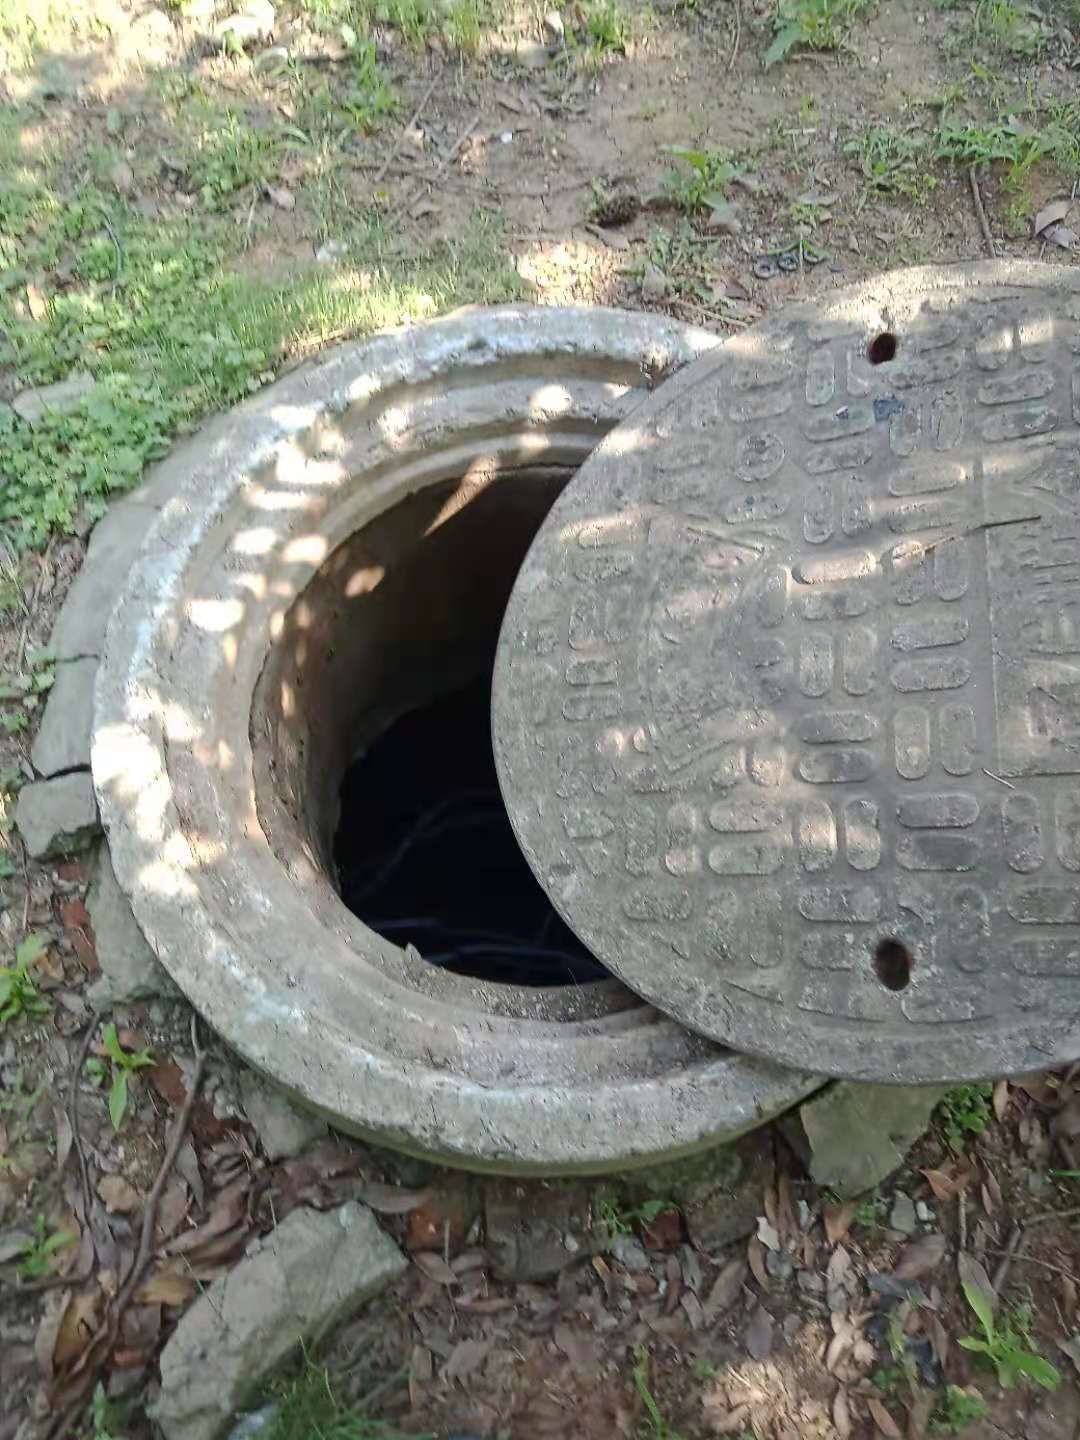uncovered: (94, 259, 1071, 1170)
